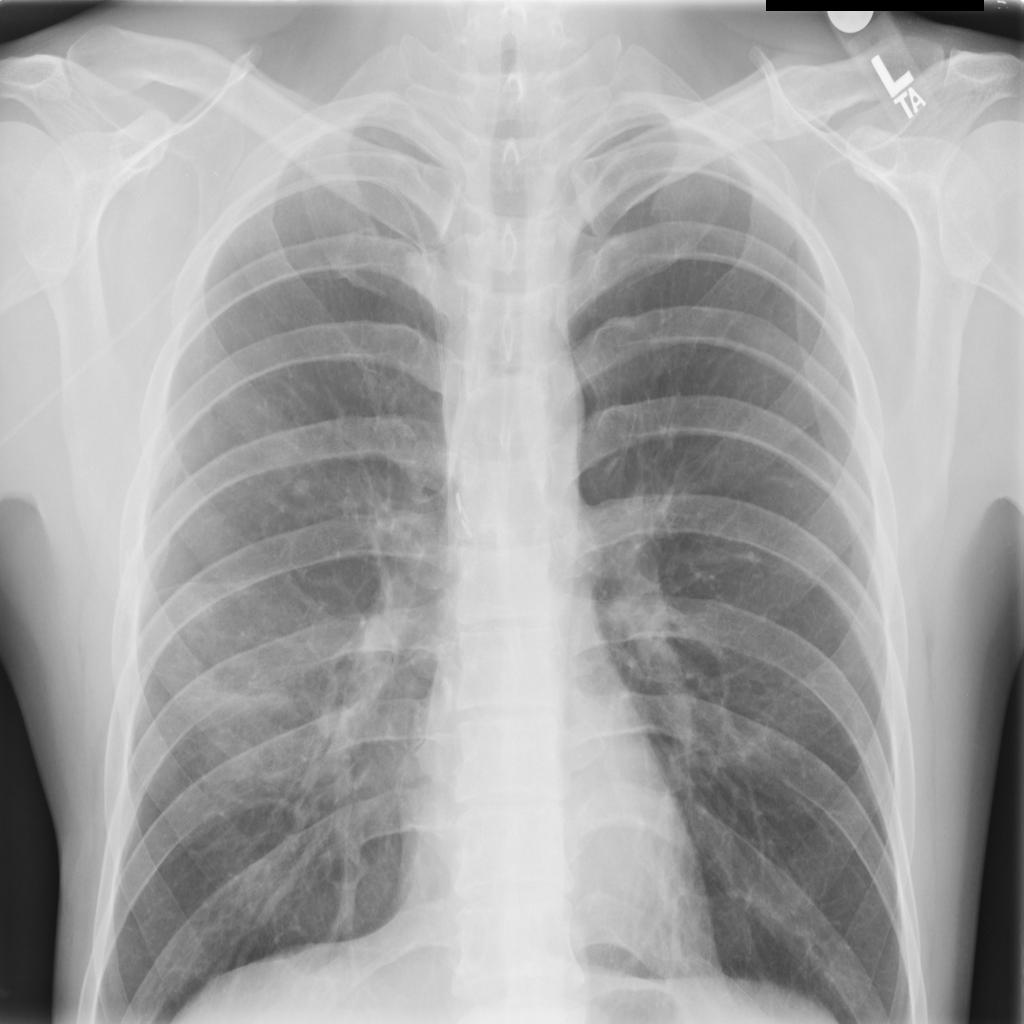nodule: (276, 456, 323, 510)
